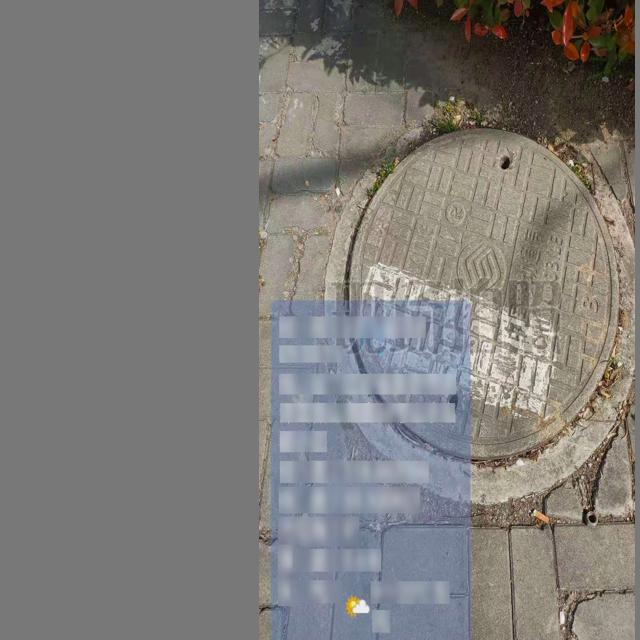circle: (339, 110, 628, 489)
